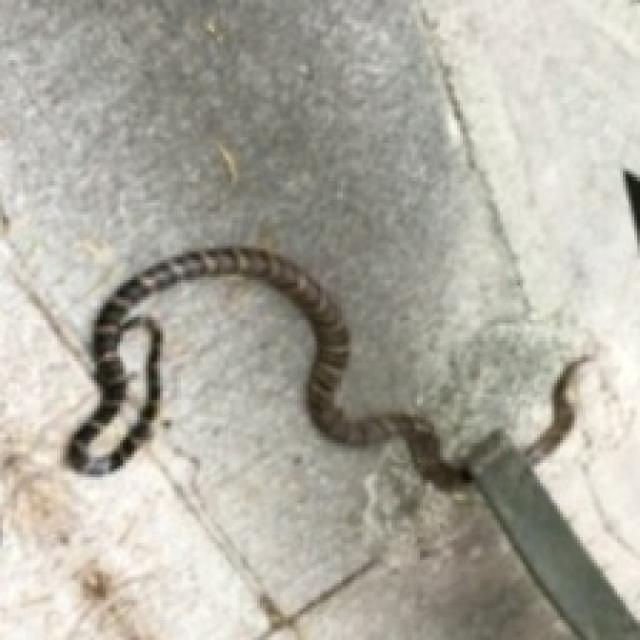king cobra: (66, 246, 637, 637), (66, 246, 466, 486)
